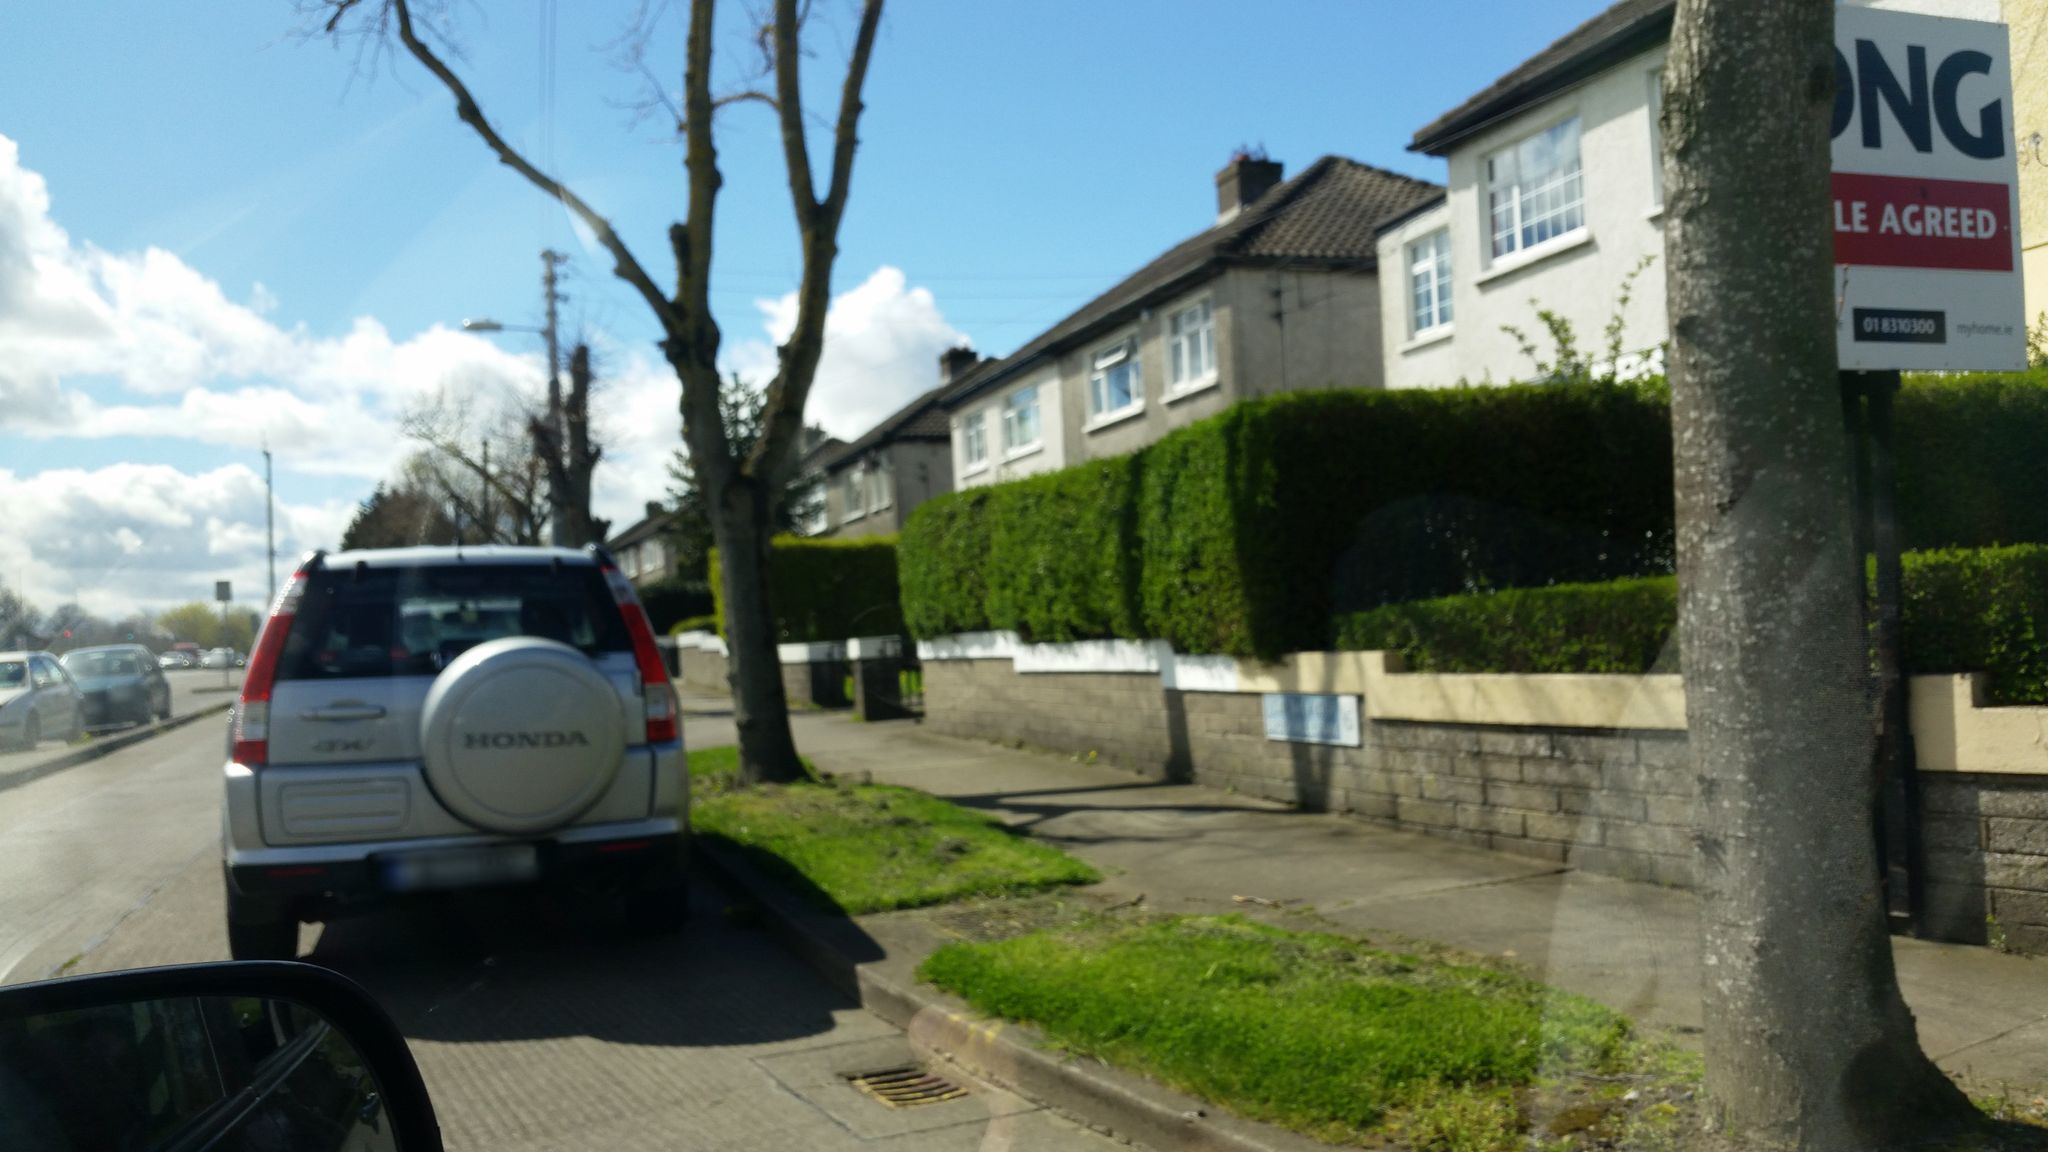property sign: (1779, 1, 2028, 401)
